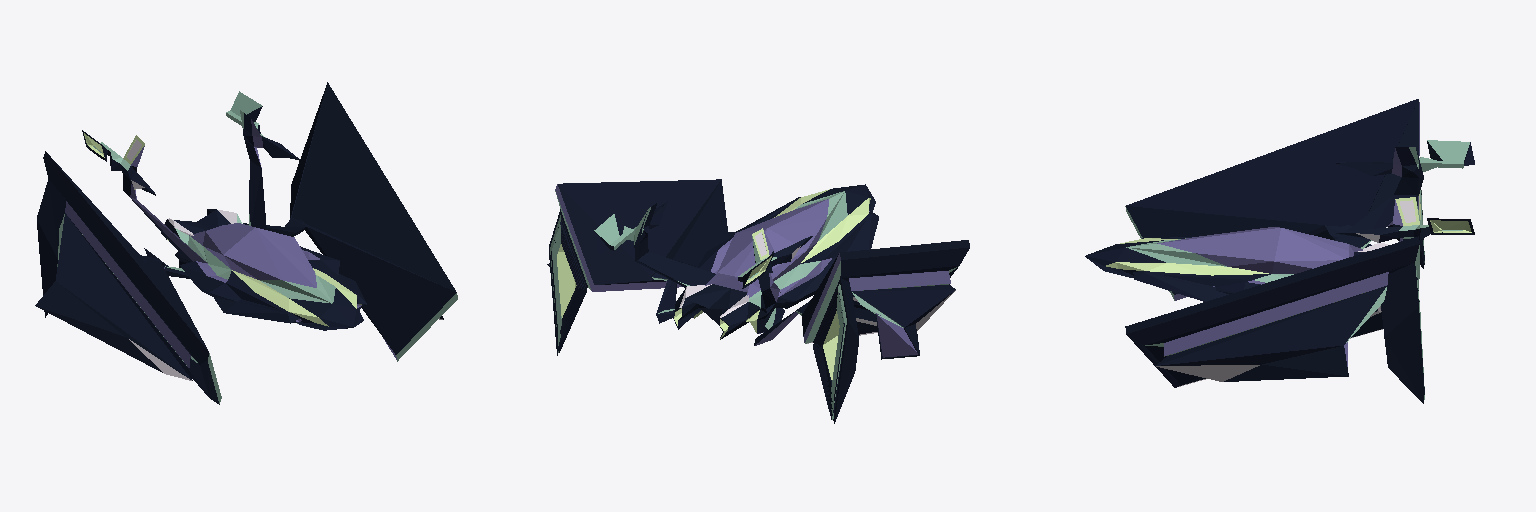
The picture shows the model from 3 angles: view 1: azimuth 30°, elevation 25°; view 2: azimuth 150°, elevation 25°; view 3: azimuth 270°, elevation 25°; orthographic projection.
Parts seen in each view (by area): view 1: Cube.001; view 2: Cube.001; view 3: Cube.001.
Part boxes in pixels (x1,y1,x2,y2): Cube.001: (35, 82, 457, 404); Cube.001: (547, 179, 969, 423); Cube.001: (1085, 99, 1474, 403).
Bounding box in the file's own units: 18.45 × 8.38 × 16.72.
1 materials, 1 textured.